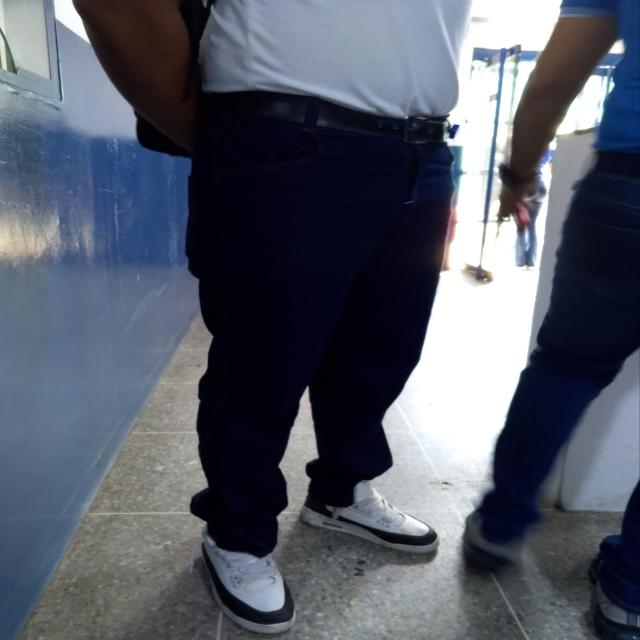pantalon_oscuro: (182, 110, 454, 560)
